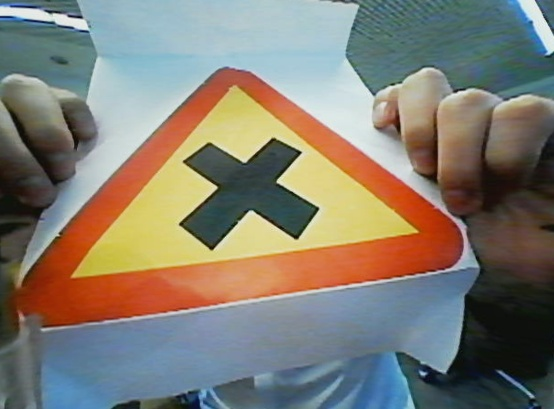junction: (14, 67, 470, 324)
